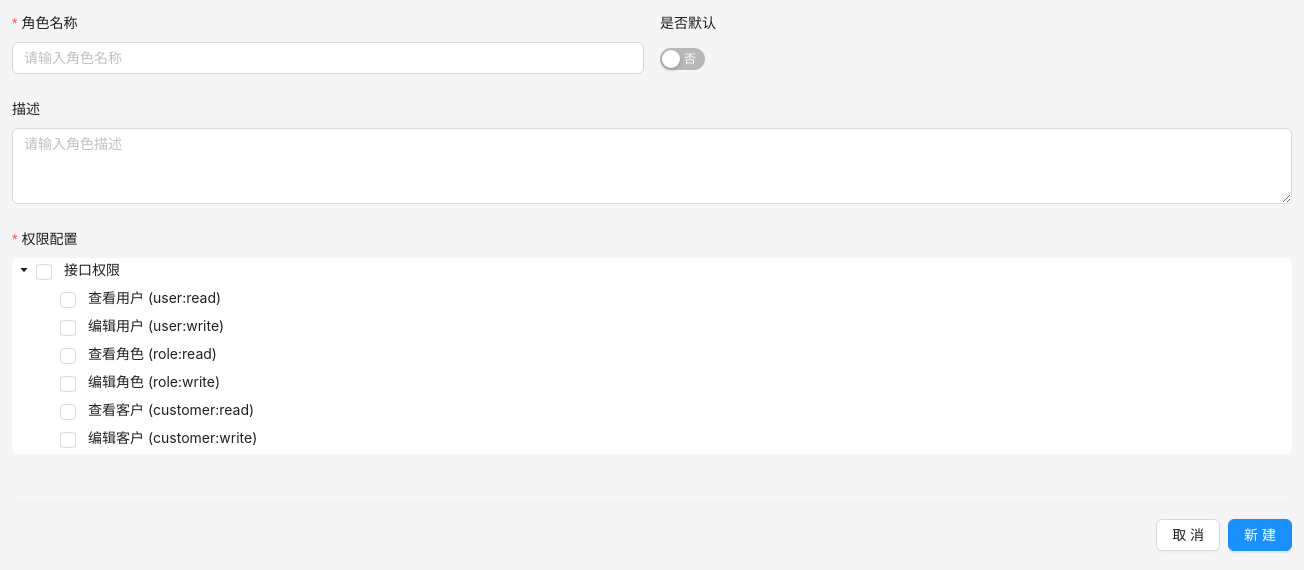
it: RoleForm › validates required fields on submit
Click the button with test id "submit-btn". click: (1260, 535)
box: left=1228, top=519, right=1292, bottom=551
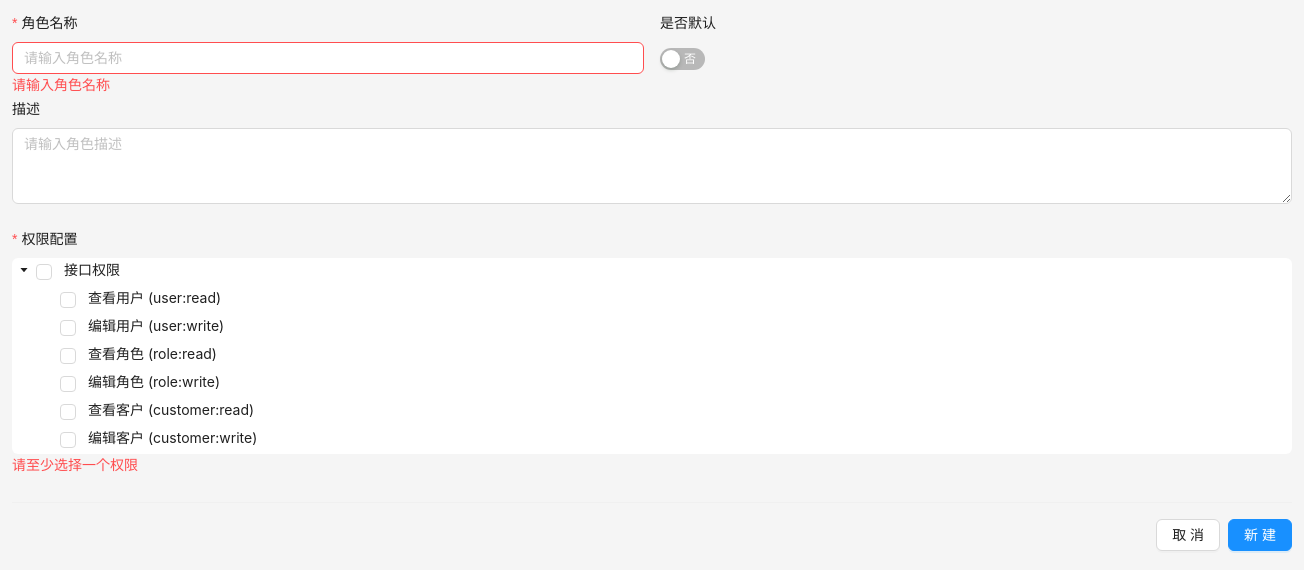
Expected: the message "请输入角色名称" is shown, left=12, top=74, right=110, bottom=96
